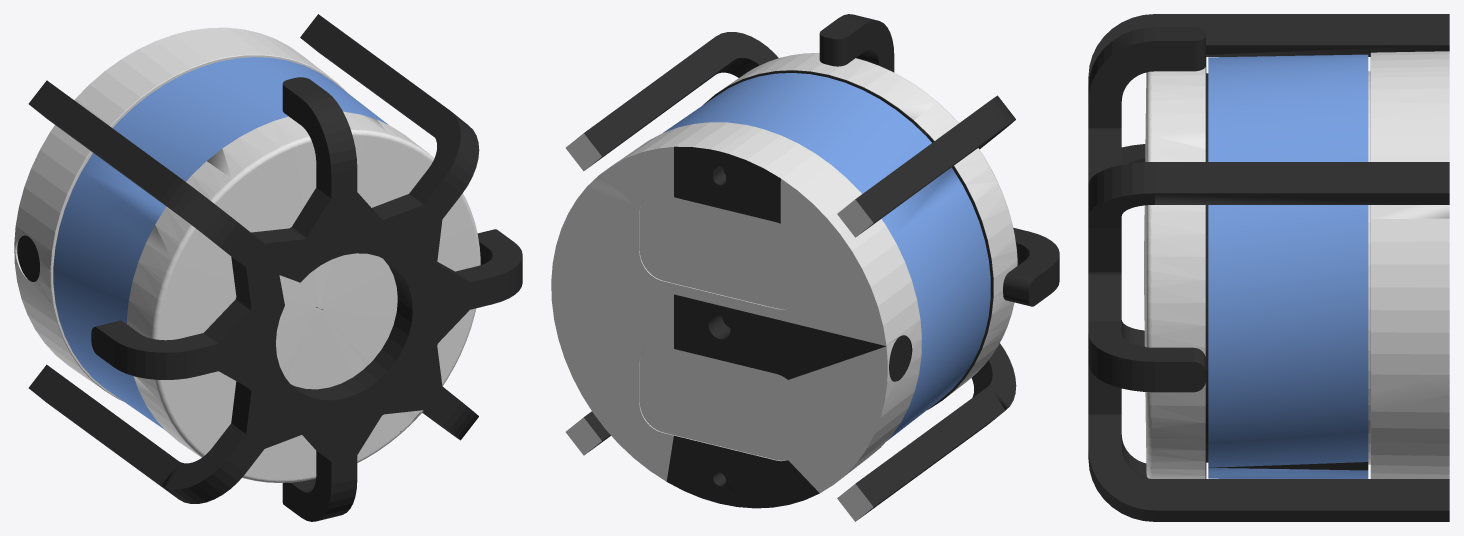
The model's file is velodyne_LiDAR.glb.
The picture shows the model from 3 angles, left to right: view 1: azimuth 30°, elevation 25°; view 2: azimuth 150°, elevation 25°; view 3: azimuth 270°, elevation 25°; orthographic projection. The views are drawn at different scales.
Visible parts, largest first — view 1: Velo; view 2: Velo; view 3: Velo.
Boxes of the visible parts, bbox=[...] form: Velo: bbox=[14, 14, 522, 521]; Velo: bbox=[551, 14, 1059, 521]; Velo: bbox=[1088, 14, 1449, 521].
Bounding box in the file's own units: 0.1229 × 0.1229 × 0.0859.
